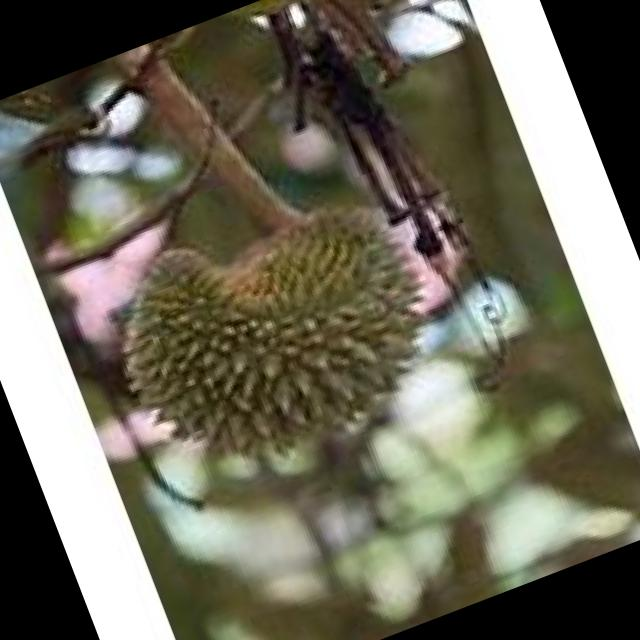fruit: (51, 125, 521, 554)
